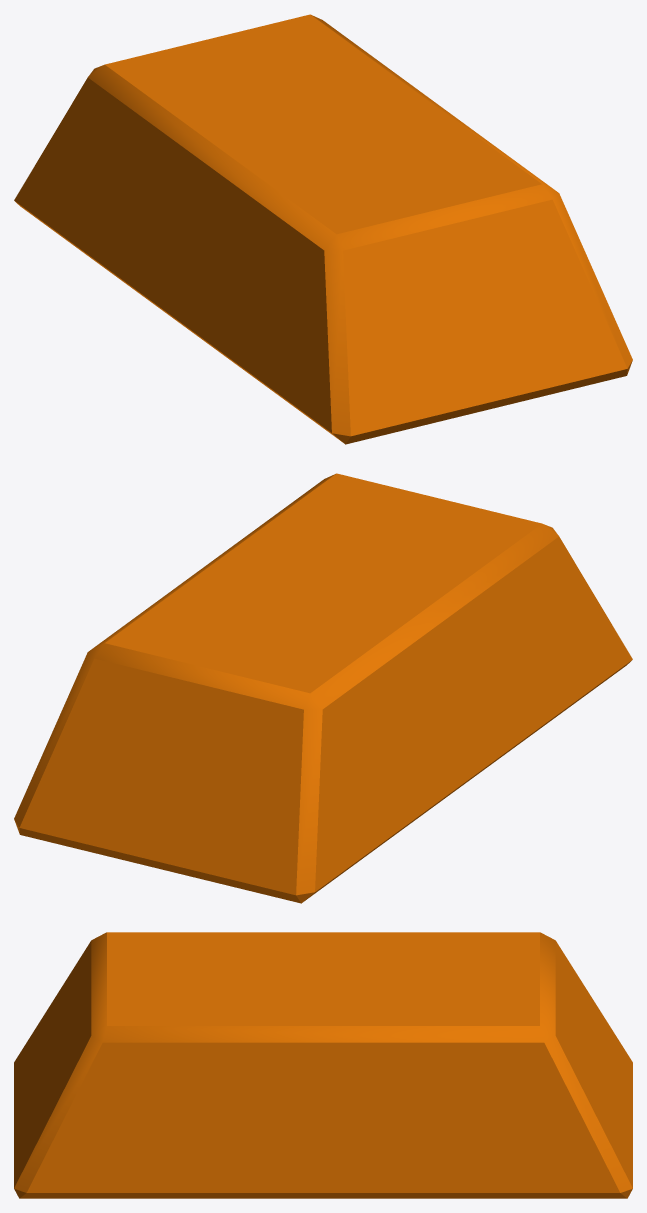
File: SM_Ingot.fbx
3 renders of one model, top to bottom at view 1: azimuth 30°, elevation 25°; view 2: azimuth 150°, elevation 25°; view 3: azimuth 270°, elevation 25°, orthographic. The views are drawn at different scales.
Parts seen in each view (by area): view 1: SM_Ingot; view 2: SM_Ingot; view 3: SM_Ingot.
Part boxes in pixels (x1,y1,x2,y2): SM_Ingot: [14, 14, 632, 444]; SM_Ingot: [14, 473, 632, 903]; SM_Ingot: [14, 932, 632, 1198].
Bounding box in the file's own units: 24.59 × 13.01 × 46.91.
